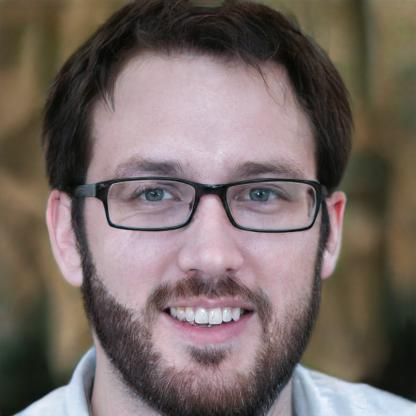glasses: (90, 163, 320, 235)
